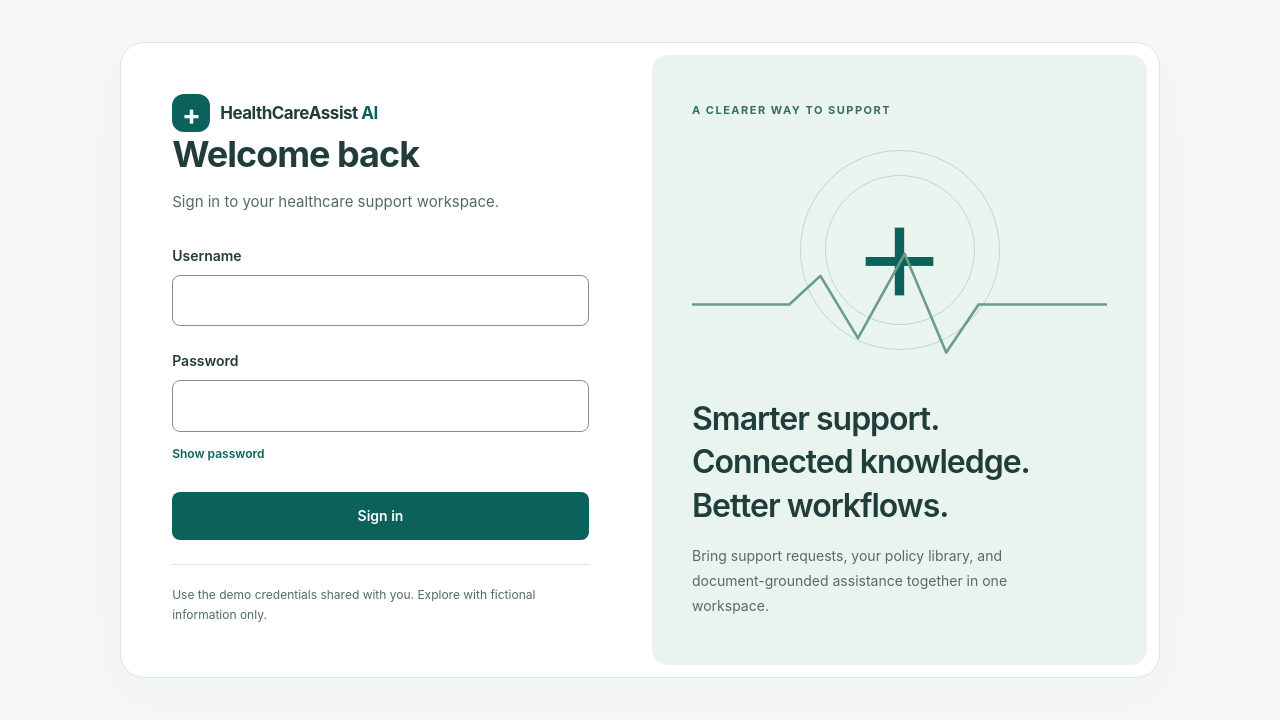
Test: server-backed demo authentication › keeps invalid credentials generic and clears the password
Type "fictional-reviewer" into the field labelled "Username" at (380, 301), box [172, 275, 589, 326]
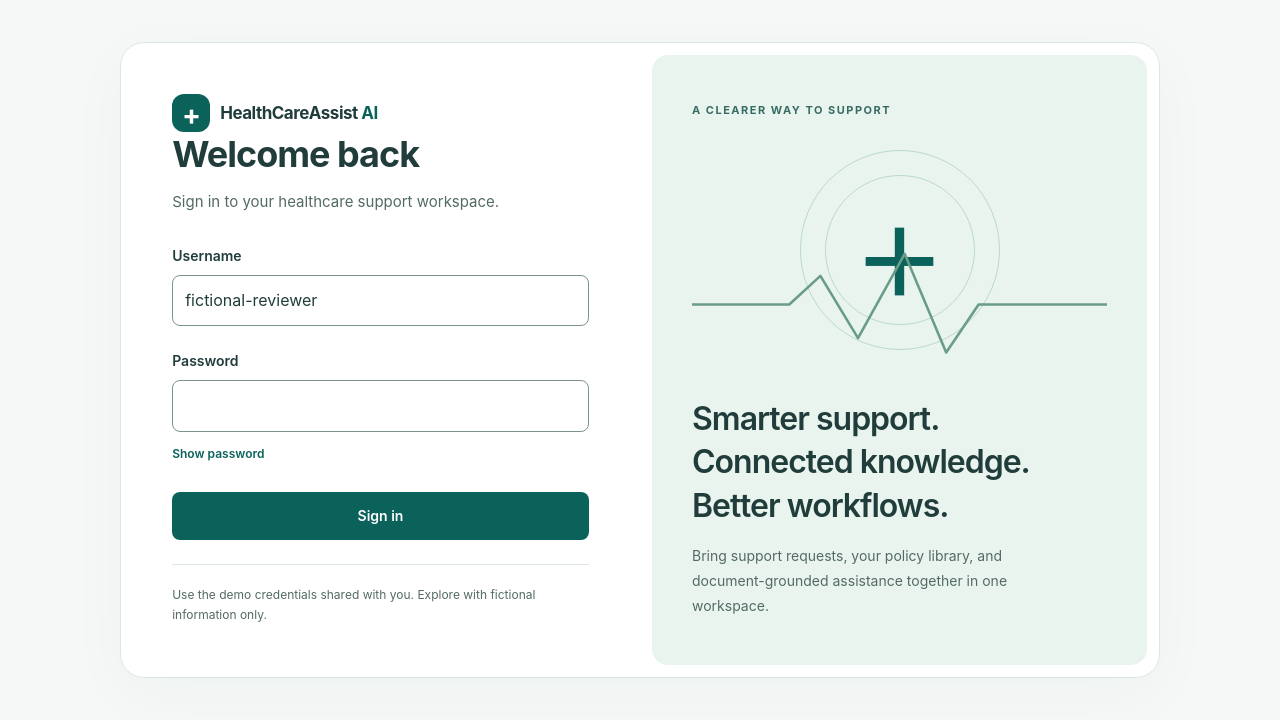
Type "synthetic-input-only" into the password field labelled "Password" at (380, 406), box [172, 380, 589, 432]
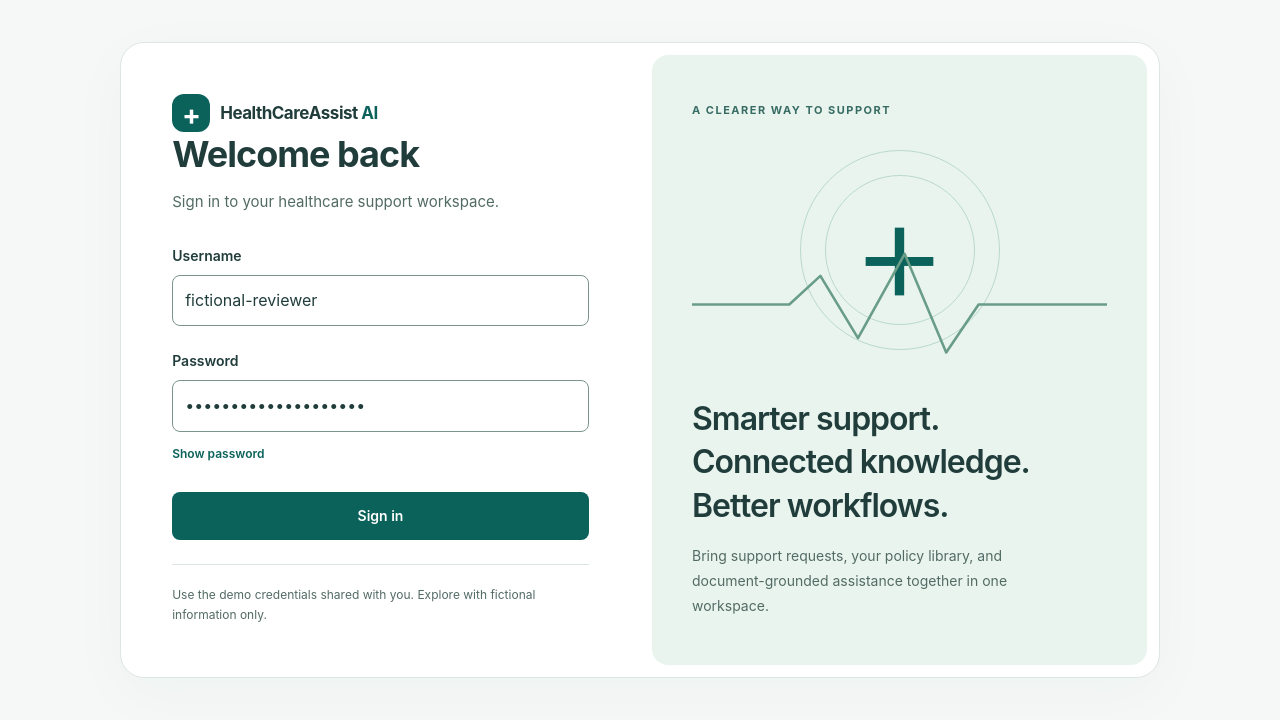
Submit the form named "Demo sign in", box [172, 245, 589, 540]
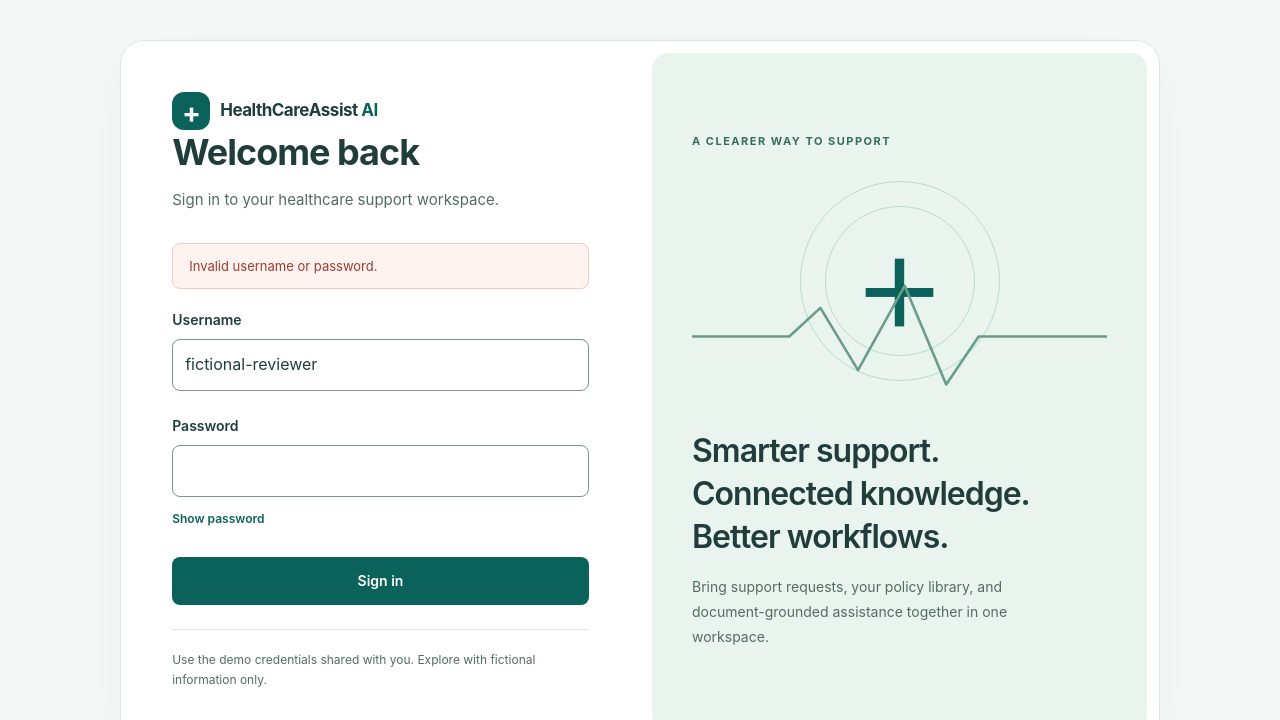
Expected: the message reads "Invalid username or password.", [189, 258, 378, 274]
Expected: the password field labelled "Password" is empty, [172, 445, 589, 497]
